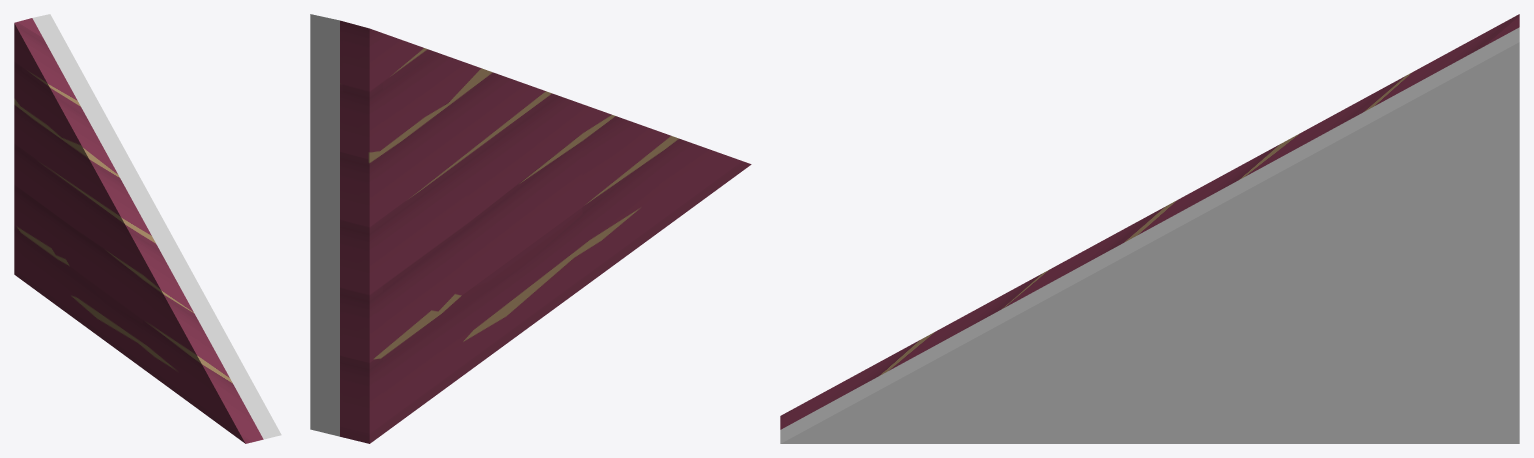
The model's file is SM_Bld_Roof_M_Straight_Wall_01.fbx.
3 views of the same model, side by side, from view 1: azimuth 30°, elevation 25°; view 2: azimuth 150°, elevation 25°; view 3: azimuth 270°, elevation 25° (orthographic). The views are drawn at different scales.
Visible parts, largest first — view 1: SM_Bld_Roof_M_Straight_Wall_01; view 2: SM_Bld_Roof_M_Straight_Wall_01; view 3: SM_Bld_Roof_M_Straight_Wall_01.
Part boxes in pixels (x1=…): SM_Bld_Roof_M_Straight_Wall_01: x1=14, y1=14, x2=281, y2=443; SM_Bld_Roof_M_Straight_Wall_01: x1=310, y1=14, x2=751, y2=443; SM_Bld_Roof_M_Straight_Wall_01: x1=780, y1=14, x2=1519, y2=443.
Bounding box in the file's own units: 22.5 × 150 × 250.
